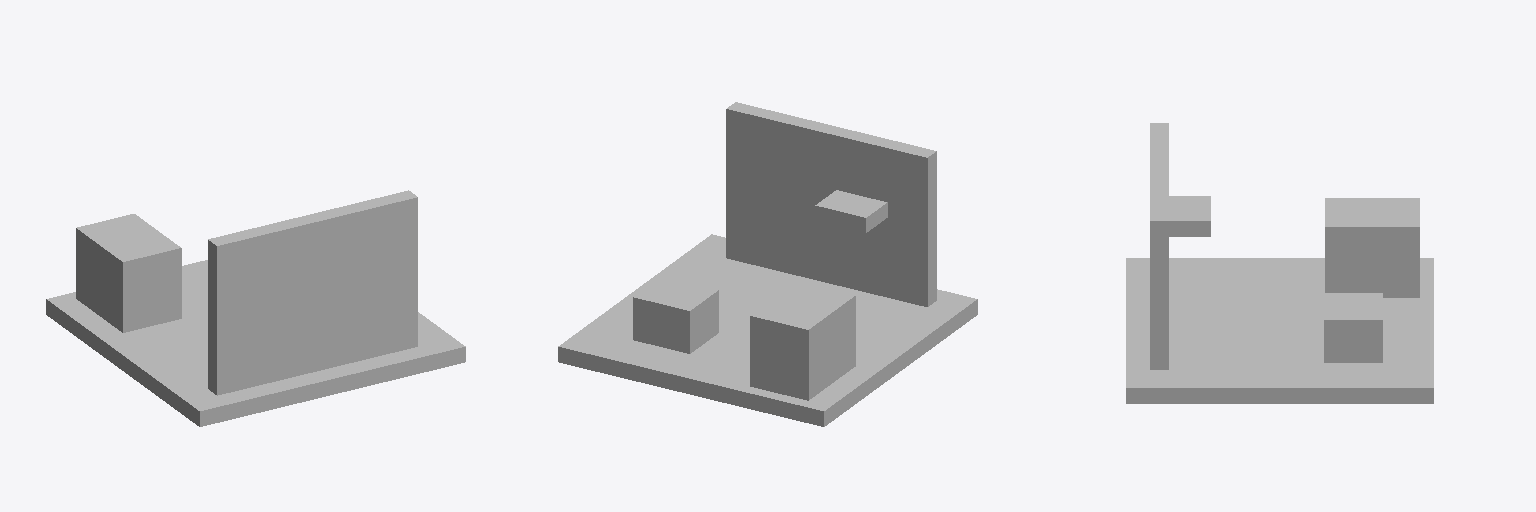
The picture shows the model from 3 angles: view 1: azimuth 30°, elevation 25°; view 2: azimuth 150°, elevation 25°; view 3: azimuth 270°, elevation 25°; orthographic projection.
Parts seen in each view (by area): view 1: 立方体_立方体.001, Cube.001, 立方体.003_立方体.004; view 2: 立方体_立方体.001, Cube.001, 立方体.003_立方体.004, 立方体.002_立方体.003, 立方体.001_立方体.002; view 3: Cube.001, 立方体.003_立方体.004, 立方体_立方体.001, 立方体.002_立方体.003, 立方体.001_立方体.002.
Boxes of the visible parts, x1=… form: 立方体_立方体.001: x1=208, y1=190, x2=417, y2=395; Cube.001: x1=46, y1=260, x2=465, y2=426; 立方体.003_立方体.004: x1=76, y1=214, x2=181, y2=332; 立方体_立方体.001: x1=726, y1=102, x2=936, y2=306; Cube.001: x1=558, y1=234, x2=977, y2=426; 立方体.003_立方体.004: x1=750, y1=281, x2=855, y2=400; 立方体.002_立方体.003: x1=633, y1=276, x2=718, y2=353; 立方体.001_立方体.002: x1=815, y1=190, x2=887, y2=232; Cube.001: x1=1126, y1=258, x2=1433, y2=403; 立方体.003_立方体.004: x1=1325, y1=198, x2=1419, y2=297; 立方体_立方体.001: x1=1150, y1=123, x2=1168, y2=369; 立方体.002_立方体.003: x1=1324, y1=293, x2=1382, y2=362; 立方体.001_立方体.002: x1=1169, y1=196, x2=1210, y2=236.
Size of the model in its own units: 60 by 35.65 by 60.